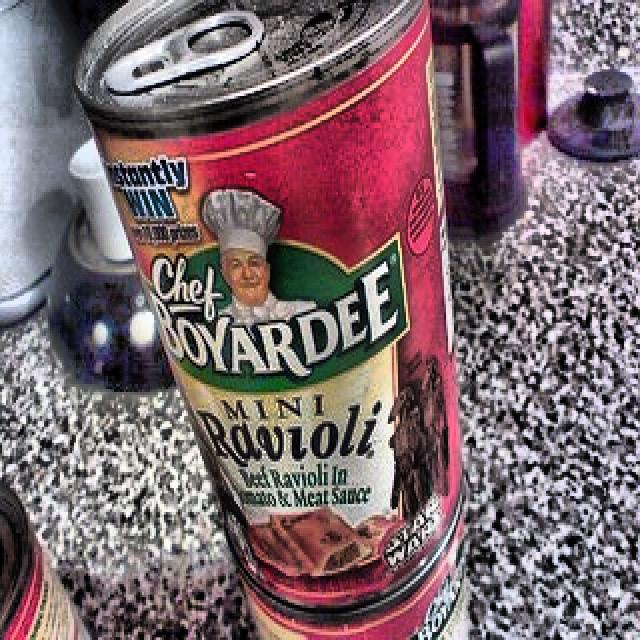Cans: (58, 0, 502, 597)
